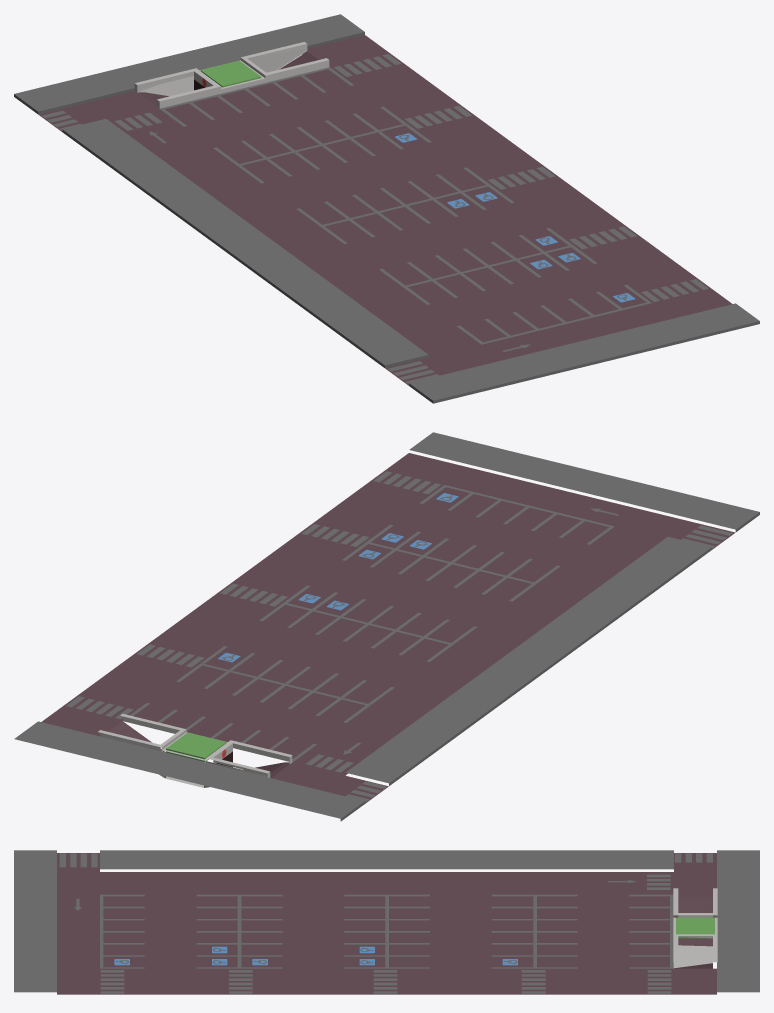
The model's file is parking_lvl_9.FBX.
3 views of the same model, one above another, from view 1: azimuth 30°, elevation 25°; view 2: azimuth 150°, elevation 25°; view 3: azimuth 270°, elevation 25° (orthographic). The views are drawn at different scales.
Parts seen in each view (by area): view 1: parking_lvl_9; view 2: parking_lvl_9; view 3: parking_lvl_9.
Part boxes in pixels (x1,y1,x2,y2): parking_lvl_9: (14,14,759,403); parking_lvl_9: (14,432,759,821); parking_lvl_9: (14,850,759,994).
Bounding box in the file's own units: 5850 × 562 × 13000.
